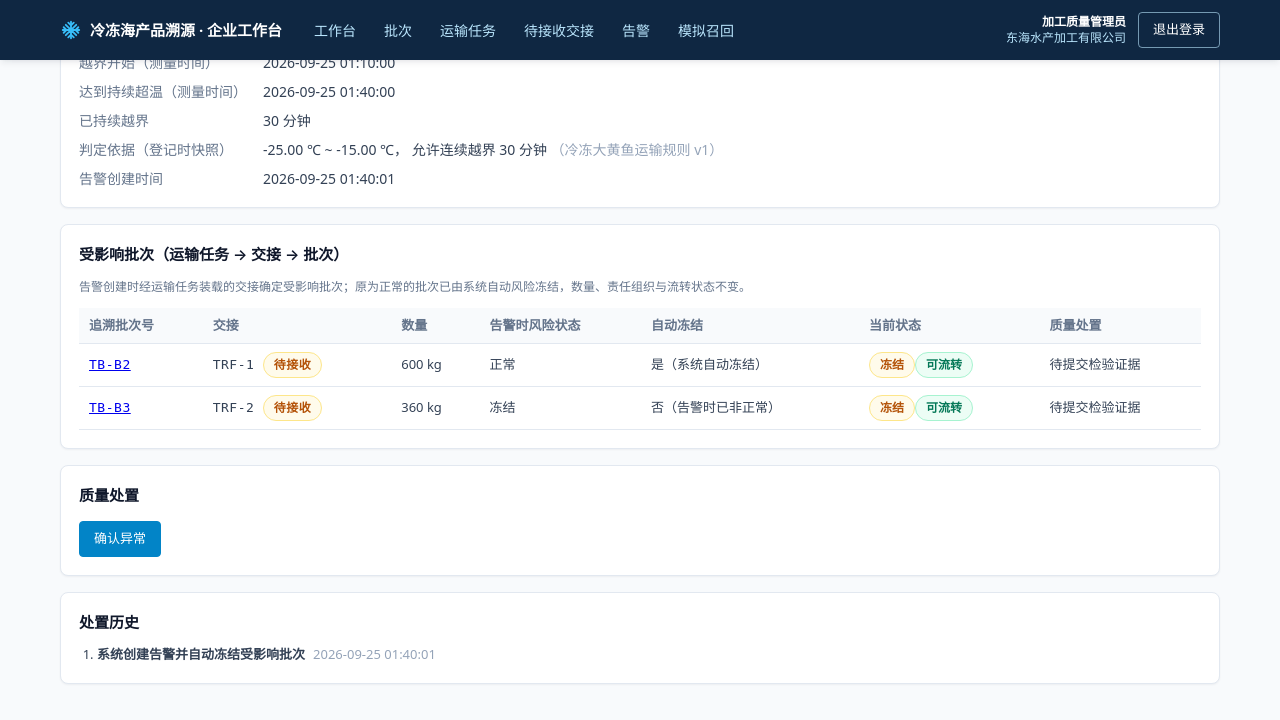
Test: AlertDetailView › reloads and keeps the reason on 409
(page scrolled)
Click the button with test id "alert-ack-open" at (120, 538), box x1=79 y1=520 x2=161 y2=556
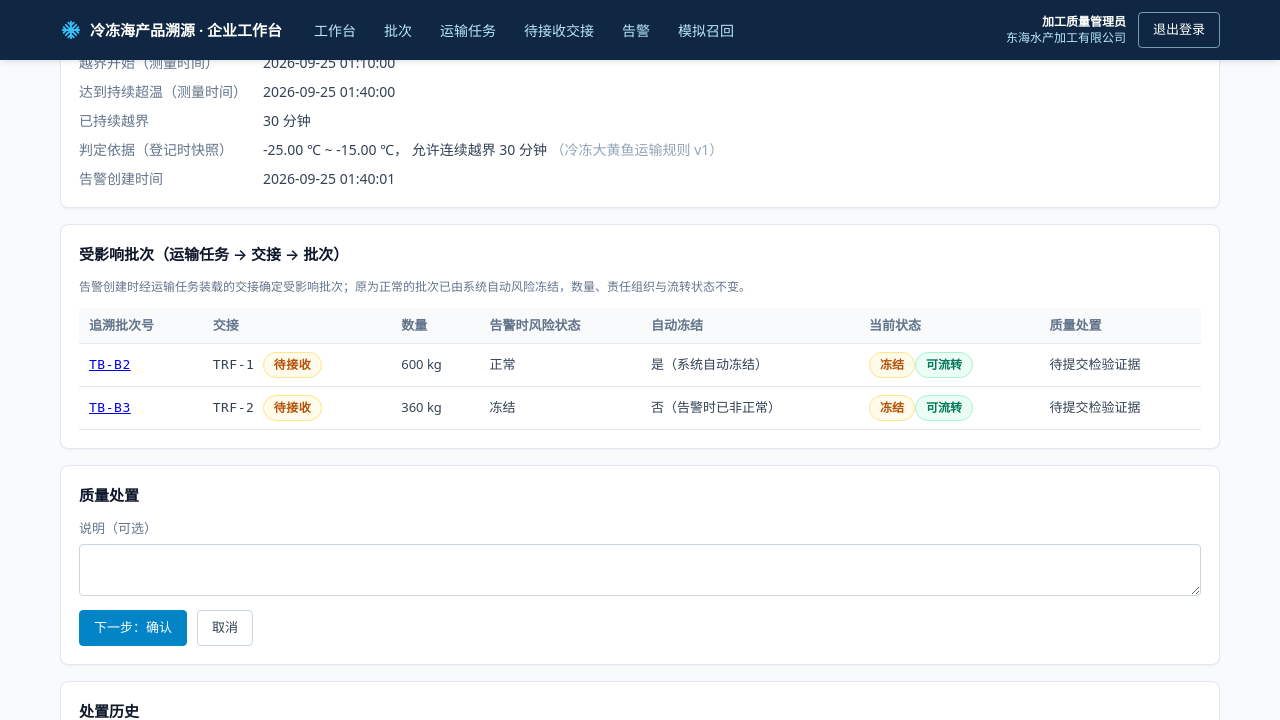
Submit the form with test id "alert-ack-form", box x1=79 y1=518 x2=1201 y2=646
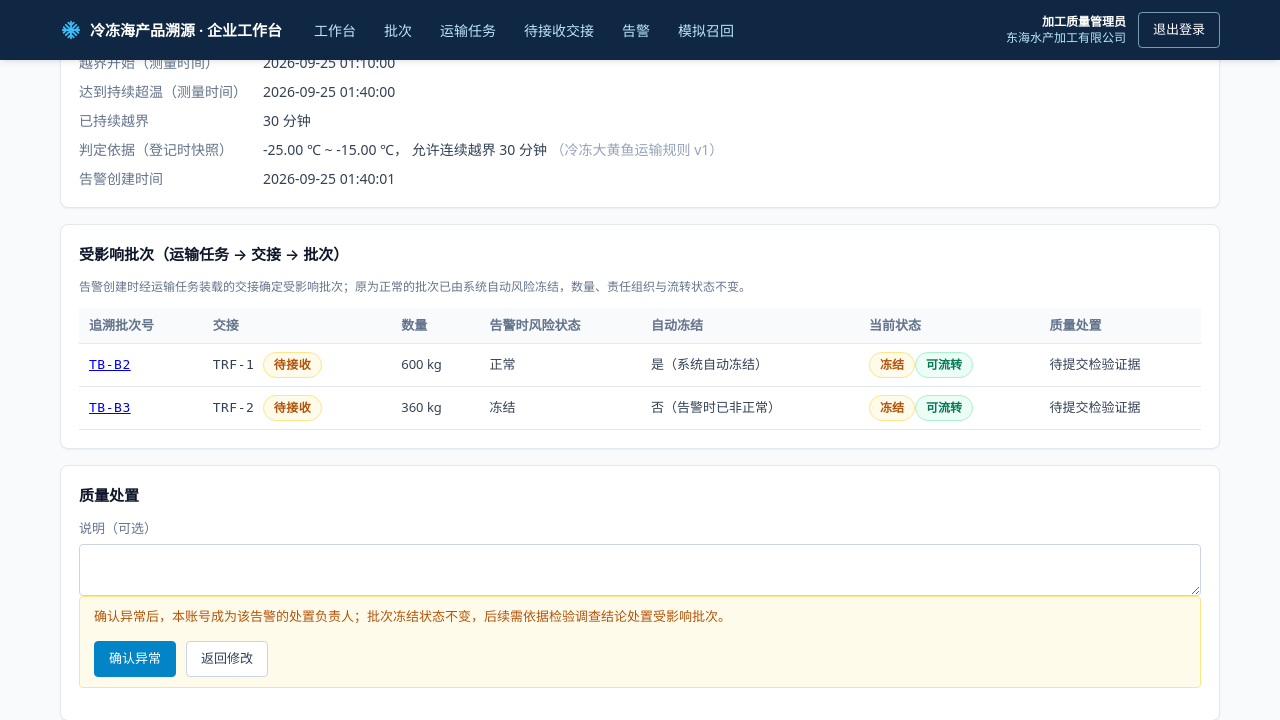
Click the button with test id "alert-ack-confirm" at (135, 658), box x1=94 y1=640 x2=176 y2=676
(page scrolled)
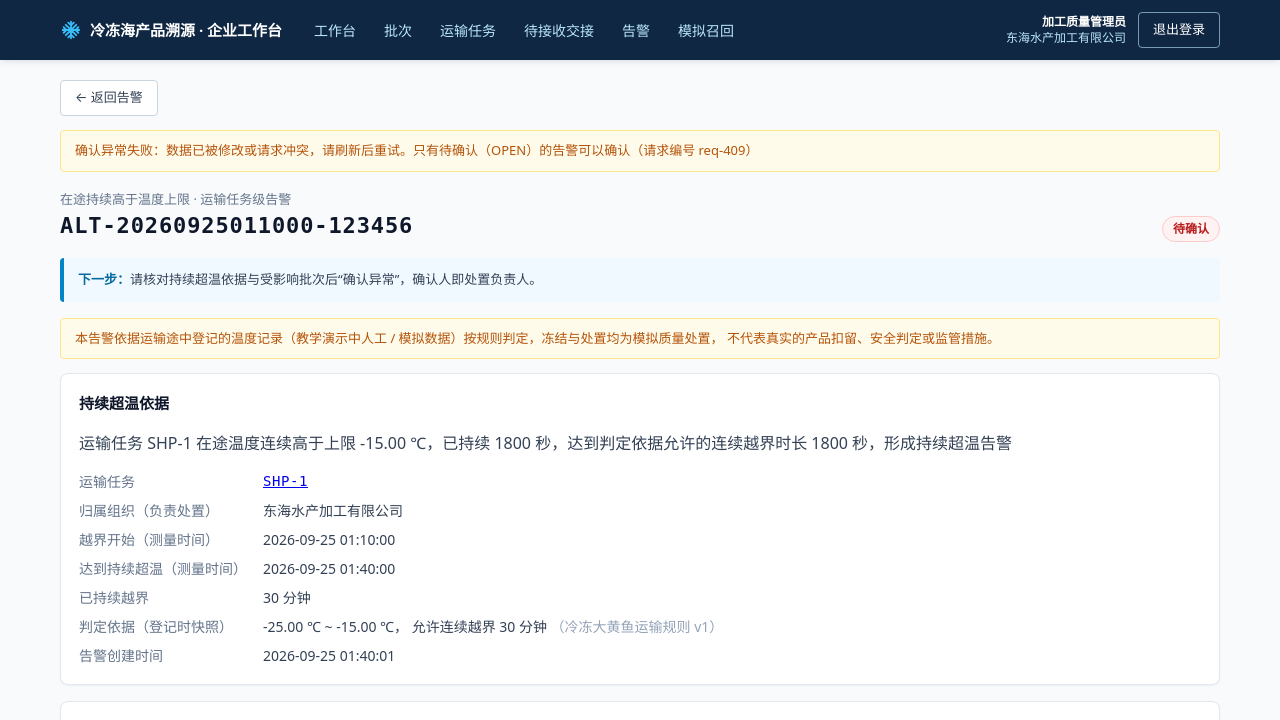
Result: the message with test id "alert-flash" shows "只有待确认（OPEN）的告警可以确认" at x1=75 y1=141 x2=758 y2=159
